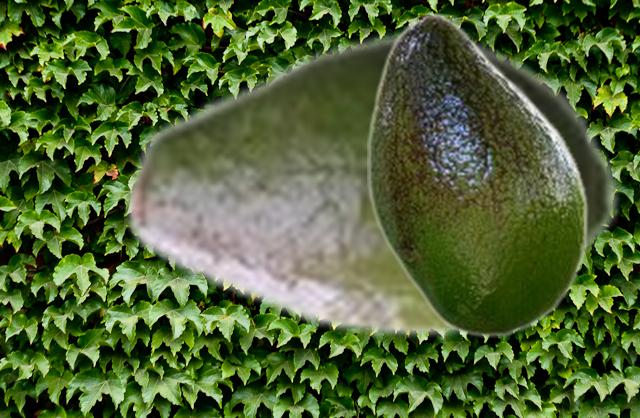avocado: (124, 28, 621, 341), (367, 12, 588, 336)
